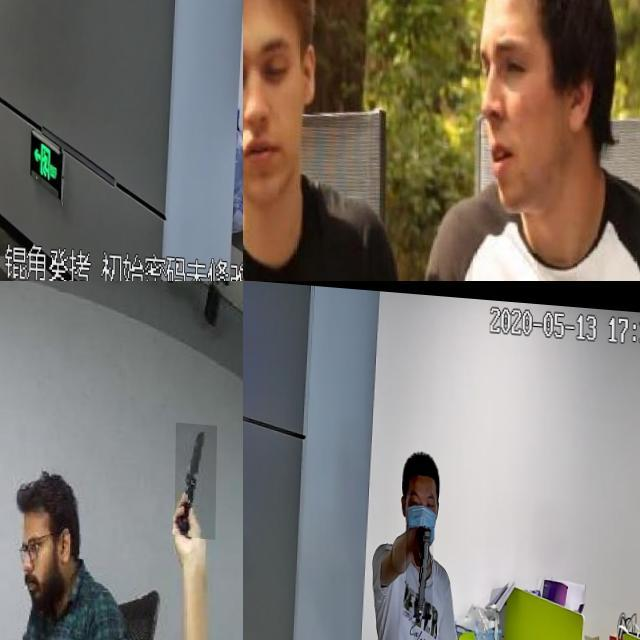-: (175, 414, 218, 530)
gun-knife-thesis - v11 Yolov5 augmented: (406, 519, 434, 613), (2, 0, 48, 45)
